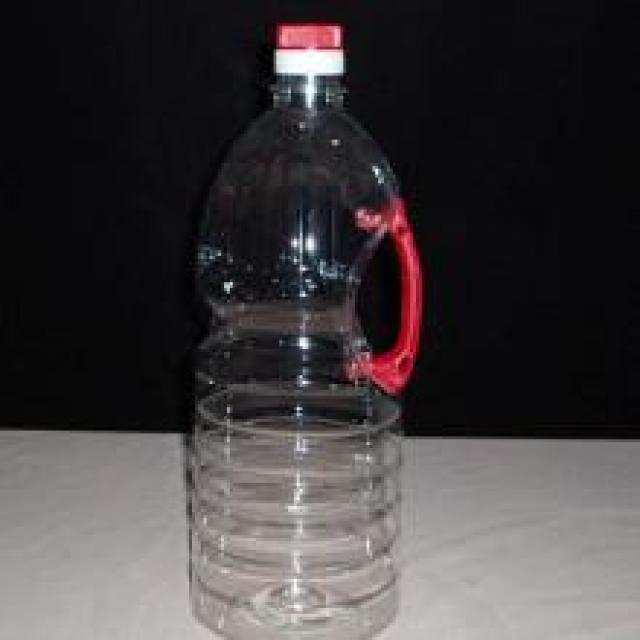-Recyclables - plastic bottle-: (187, 17, 425, 638)
